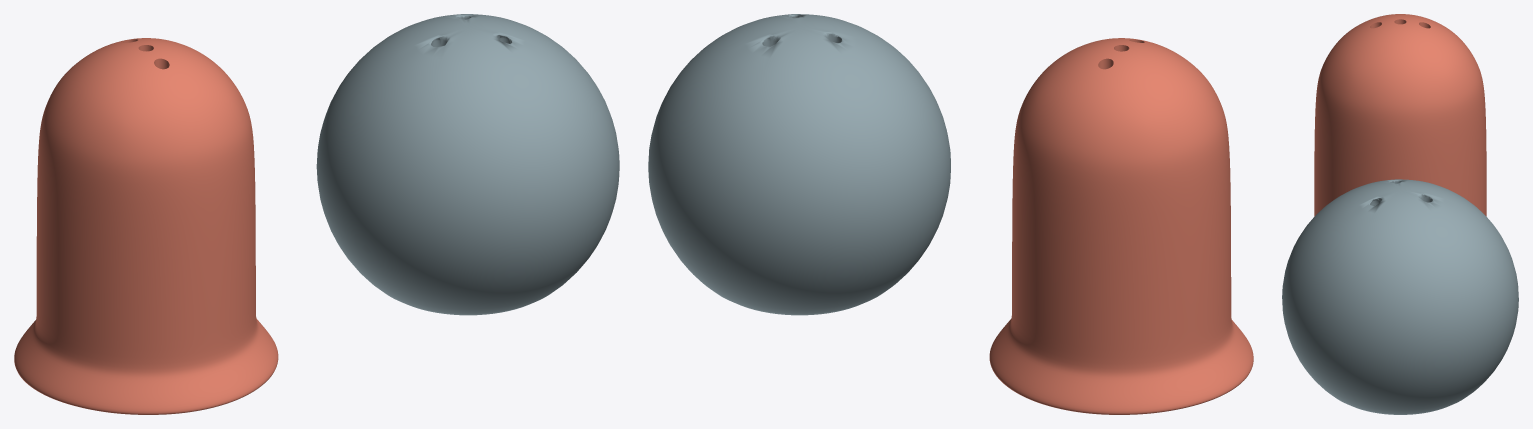
File: single-products-salt-pair-studio.glb
3 renders of one model, left to right at view 1: azimuth 30°, elevation 25°; view 2: azimuth 150°, elevation 25°; view 3: azimuth 270°, elevation 25°, orthographic. The views are drawn at different scales.
Parts seen in each view (by area): view 1: Salt Shaker 0, Sphere.012; view 2: Salt Shaker 0, Sphere.012; view 3: Sphere.012, Salt Shaker 0.
Boxes of the visible parts, x1,y1,x2,y2 form: Salt Shaker 0: (14, 38, 278, 414); Sphere.012: (316, 14, 619, 315); Salt Shaker 0: (989, 38, 1253, 414); Sphere.012: (648, 14, 950, 315); Sphere.012: (1282, 179, 1518, 414); Salt Shaker 0: (1314, 14, 1486, 216).
Bounding box in the file's own units: 0.1053 × 0.0552 × 0.0486.
